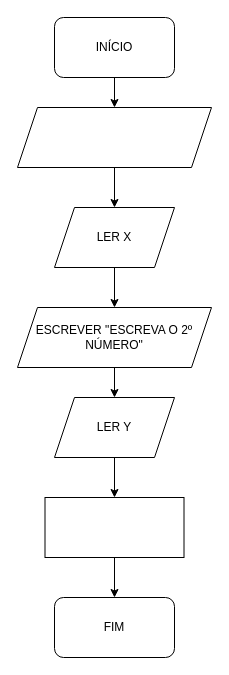
Some shapes in this 229 by 675 pixel diagram are drawn without their labels. The shapes that lost their labels are listed below. From the top down, each one's centre as x and y in pixels, then its label:
point (114, 137): ESCREVER "ESCREVA O 1º NÚMERO"
point (114, 527): "RESULTADO = " X + Y
